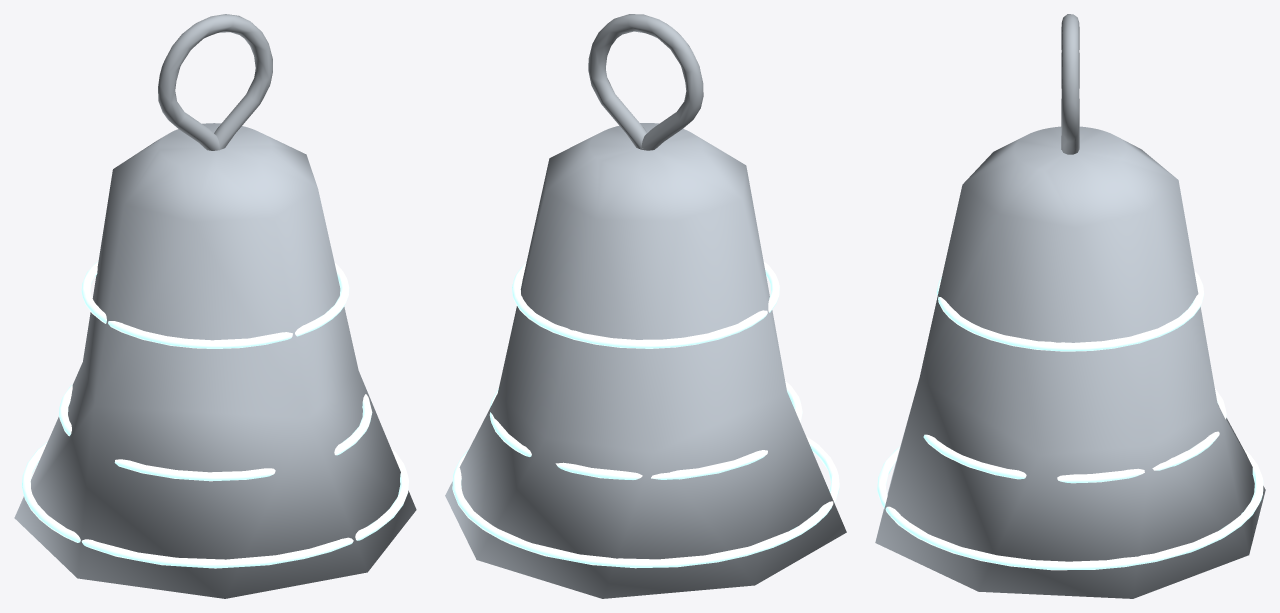
File: kinh-thuy-luu-nguyet.glb
The picture shows the model from 3 angles, left to right: view 1: azimuth 30°, elevation 25°; view 2: azimuth 150°, elevation 25°; view 3: azimuth 270°, elevation 25°; orthographic projection.
Parts seen in each view (by area): view 1: bell, loop, band-0.13, band0.06, band-0.06; view 2: bell, loop, band-0.13, band0.06, band-0.06; view 3: bell, band-0.13, band0.06, loop, band-0.06.
Part boxes in pixels (x1=…): bell: x1=14, y1=123, x2=416, y2=598; loop: x1=158, y1=14, x2=272, y2=150; band-0.13: x1=21, y1=441, x2=409, y2=568; band0.06: x1=81, y1=261, x2=349, y2=348; band-0.06: x1=59, y1=384, x2=372, y2=481; bell: x1=445, y1=123, x2=846, y2=598; loop: x1=588, y1=14, x2=703, y2=150; band-0.13: x1=452, y1=436, x2=839, y2=568; band0.06: x1=512, y1=261, x2=779, y2=348; band-0.06: x1=489, y1=380, x2=802, y2=479; bell: x1=875, y1=126, x2=1265, y2=598; band-0.13: x1=877, y1=446, x2=1263, y2=570; band0.06: x1=936, y1=271, x2=1204, y2=351; loop: x1=1061, y1=14, x2=1079, y2=154; band-0.06: x1=923, y1=389, x2=1226, y2=483.
Bounding box in the file's own units: 0.3474 × 0.5271 × 0.3474.
